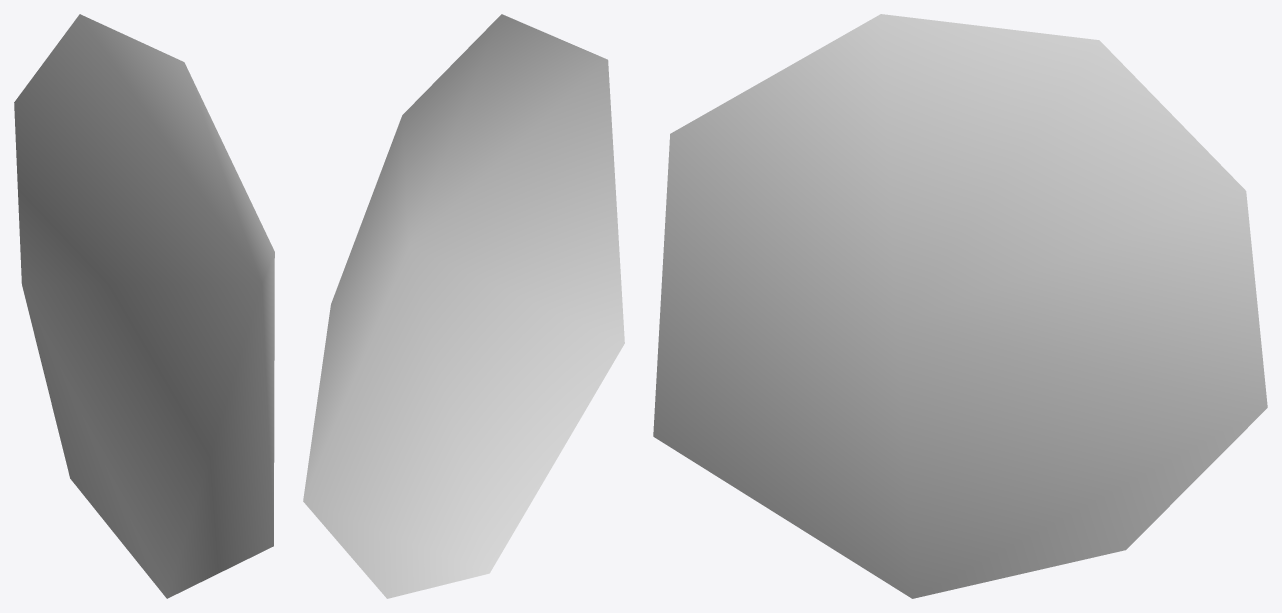
The picture shows the model from 3 angles, left to right: view 1: azimuth 30°, elevation 25°; view 2: azimuth 150°, elevation 25°; view 3: azimuth 270°, elevation 25°; orthographic projection. The views are drawn at different scales.
Bounding box in the file's own units: 0.0492 × 0.2532 × 0.2405.
1 material, 1 textured.
